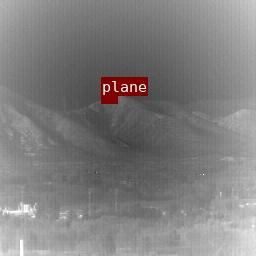plane: (101, 96, 117, 103)
